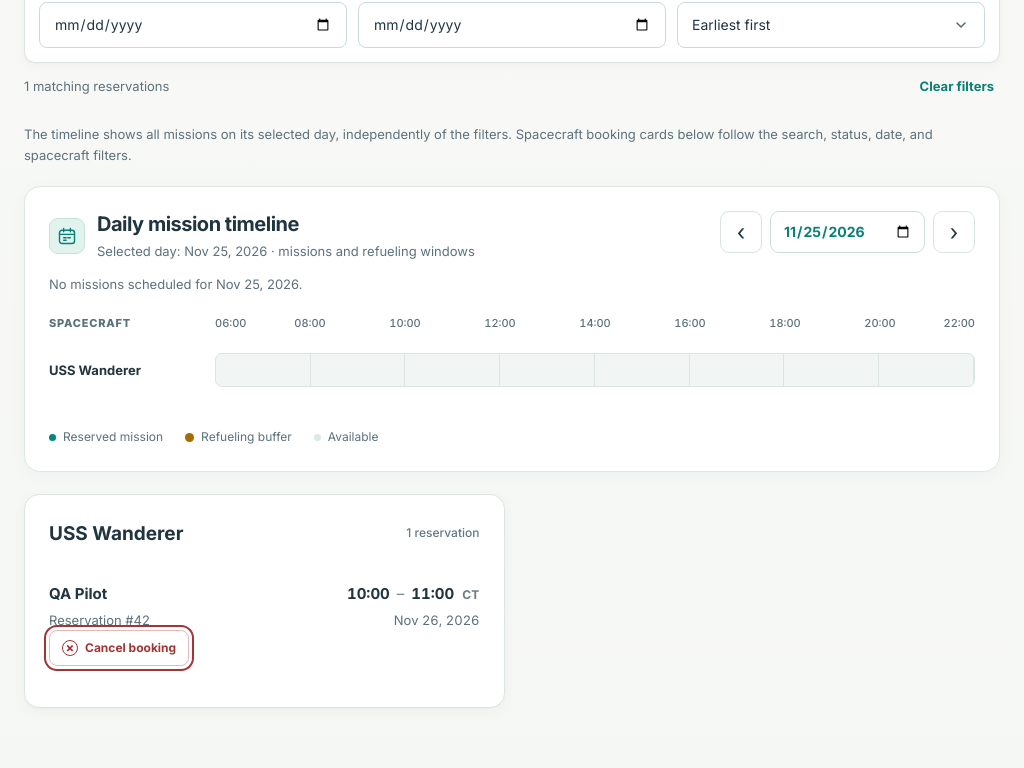
Test: Fleet cancellation › prevents duplicate cancellation and keeps a pending request in the dialog
Later steps or results of the test are not shown.
(page scrolled)
Click the button with aria-label "Cancel booking 42 for QA Pilot" at coordinates (119, 648), box 49,630 -> 189,666
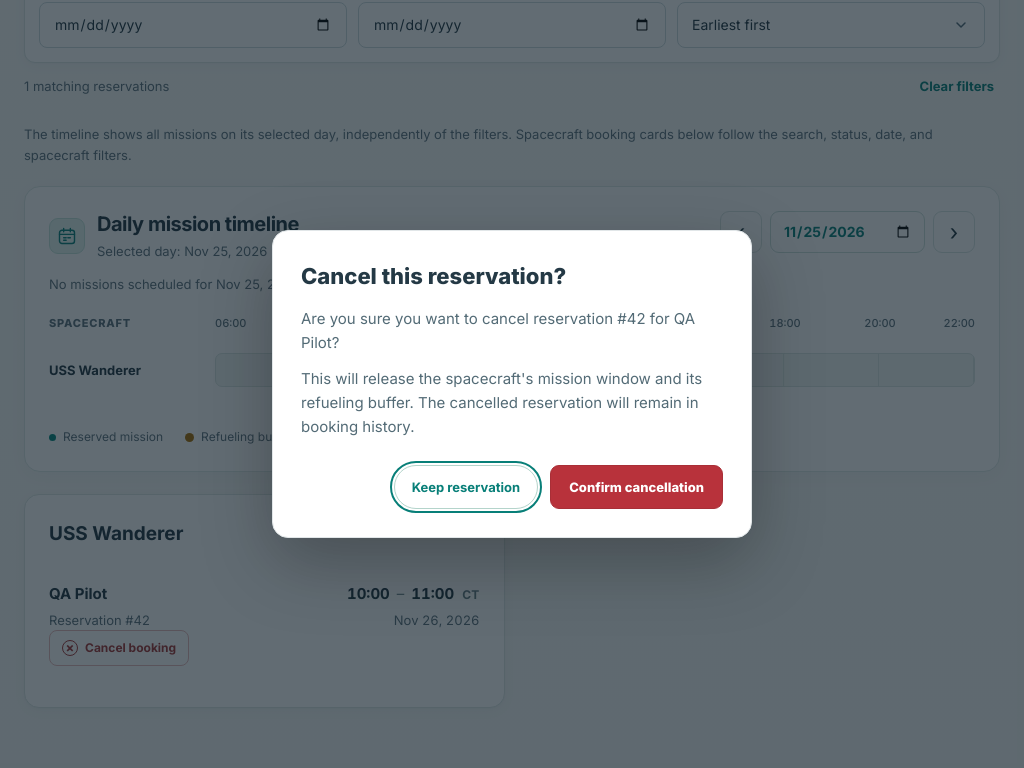
Click the button "Confirm cancellation" at coordinates (637, 487), box 550,465 -> 723,509
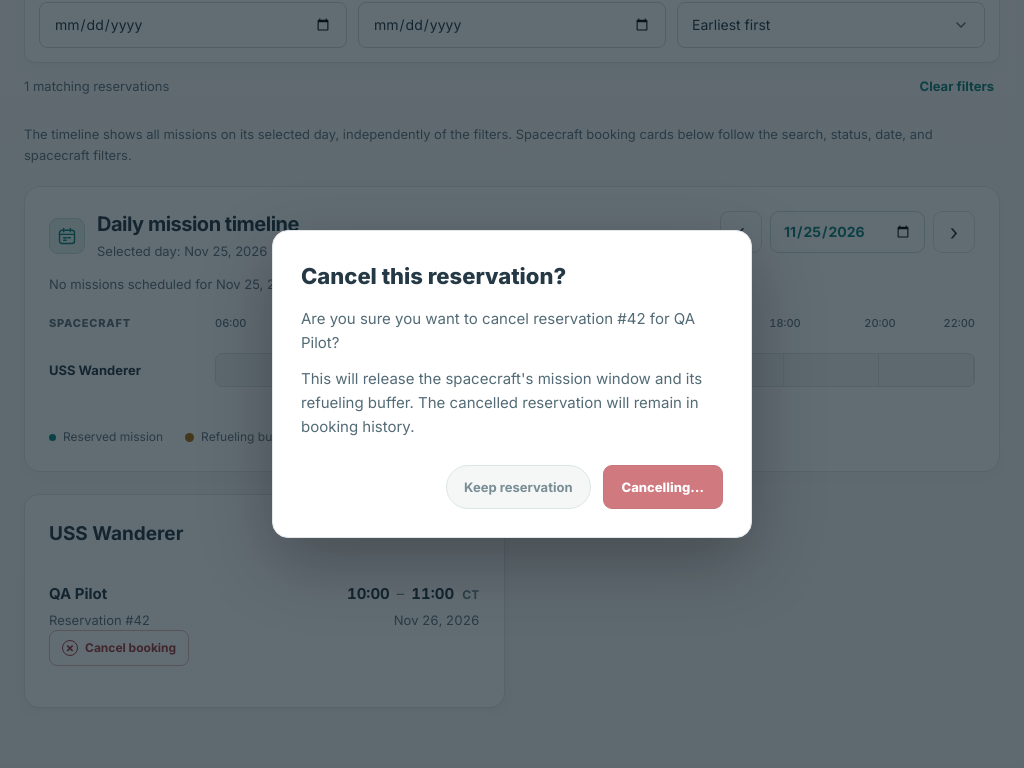
Click the button named "Confirm cancellation" at coordinates (663, 487), box 602,465 -> 723,509
Click the element that starts with "Cancel this reservation?" at coordinates (61, 384), box 0,0 -> 1023,767
Press Escape
(page scrolled)
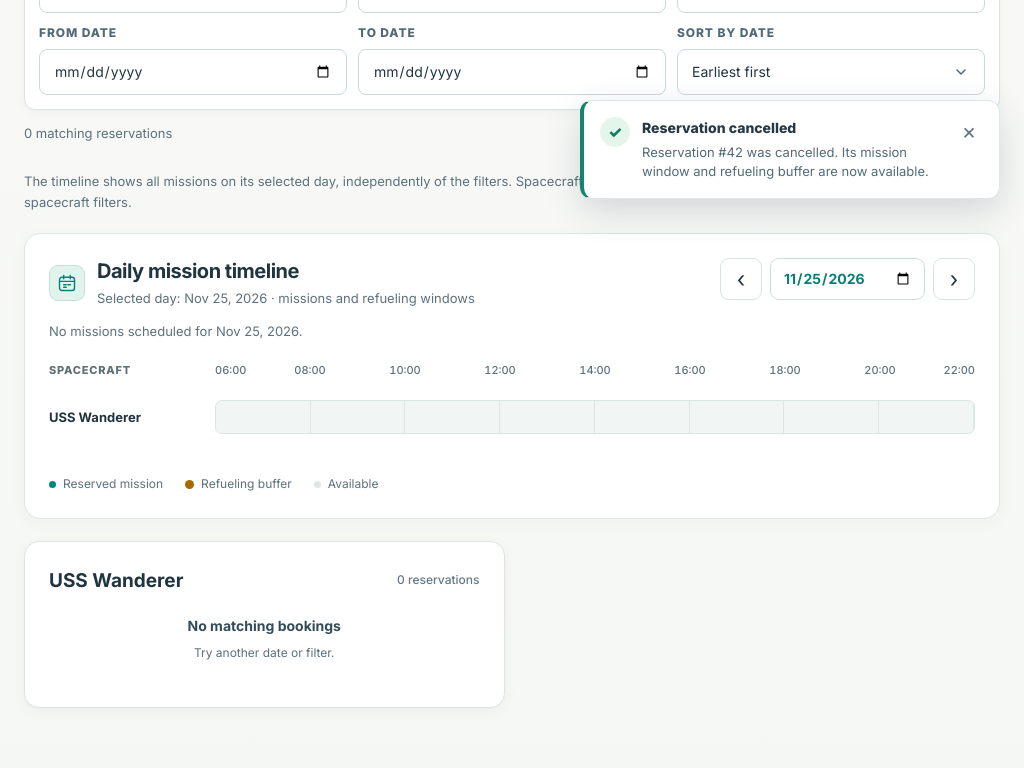
Now the dialog is gone
Now the text "Reservation cancelled" is shown, box 642,119 -> 796,136
